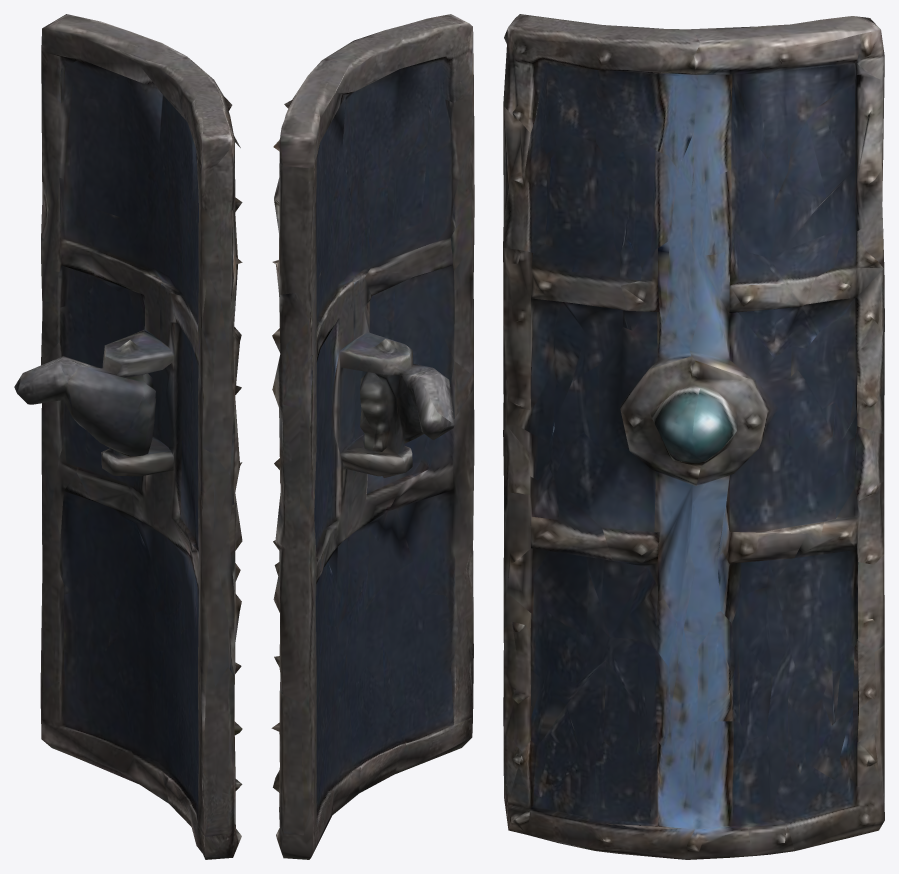
Rendered from shield.glb.
3 views of the same model, side by side, from view 1: azimuth 30°, elevation 25°; view 2: azimuth 150°, elevation 25°; view 3: azimuth 270°, elevation 25° (orthographic). The views are drawn at different scales.
Visible parts, largest first — view 1: tripo_node_4f874a87-590d-477b-9a16-b573ebcd9985; view 2: tripo_node_4f874a87-590d-477b-9a16-b573ebcd9985; view 3: tripo_node_4f874a87-590d-477b-9a16-b573ebcd9985.
Part boxes in pixels (x1,y1,x2,y2): tripo_node_4f874a87-590d-477b-9a16-b573ebcd9985: [14, 14, 242, 859]; tripo_node_4f874a87-590d-477b-9a16-b573ebcd9985: [271, 14, 474, 859]; tripo_node_4f874a87-590d-477b-9a16-b573ebcd9985: [503, 14, 884, 859].
Size of the model in its own units: 0.2686 by 0.98 by 0.4144.
1 material, 1 textured.
